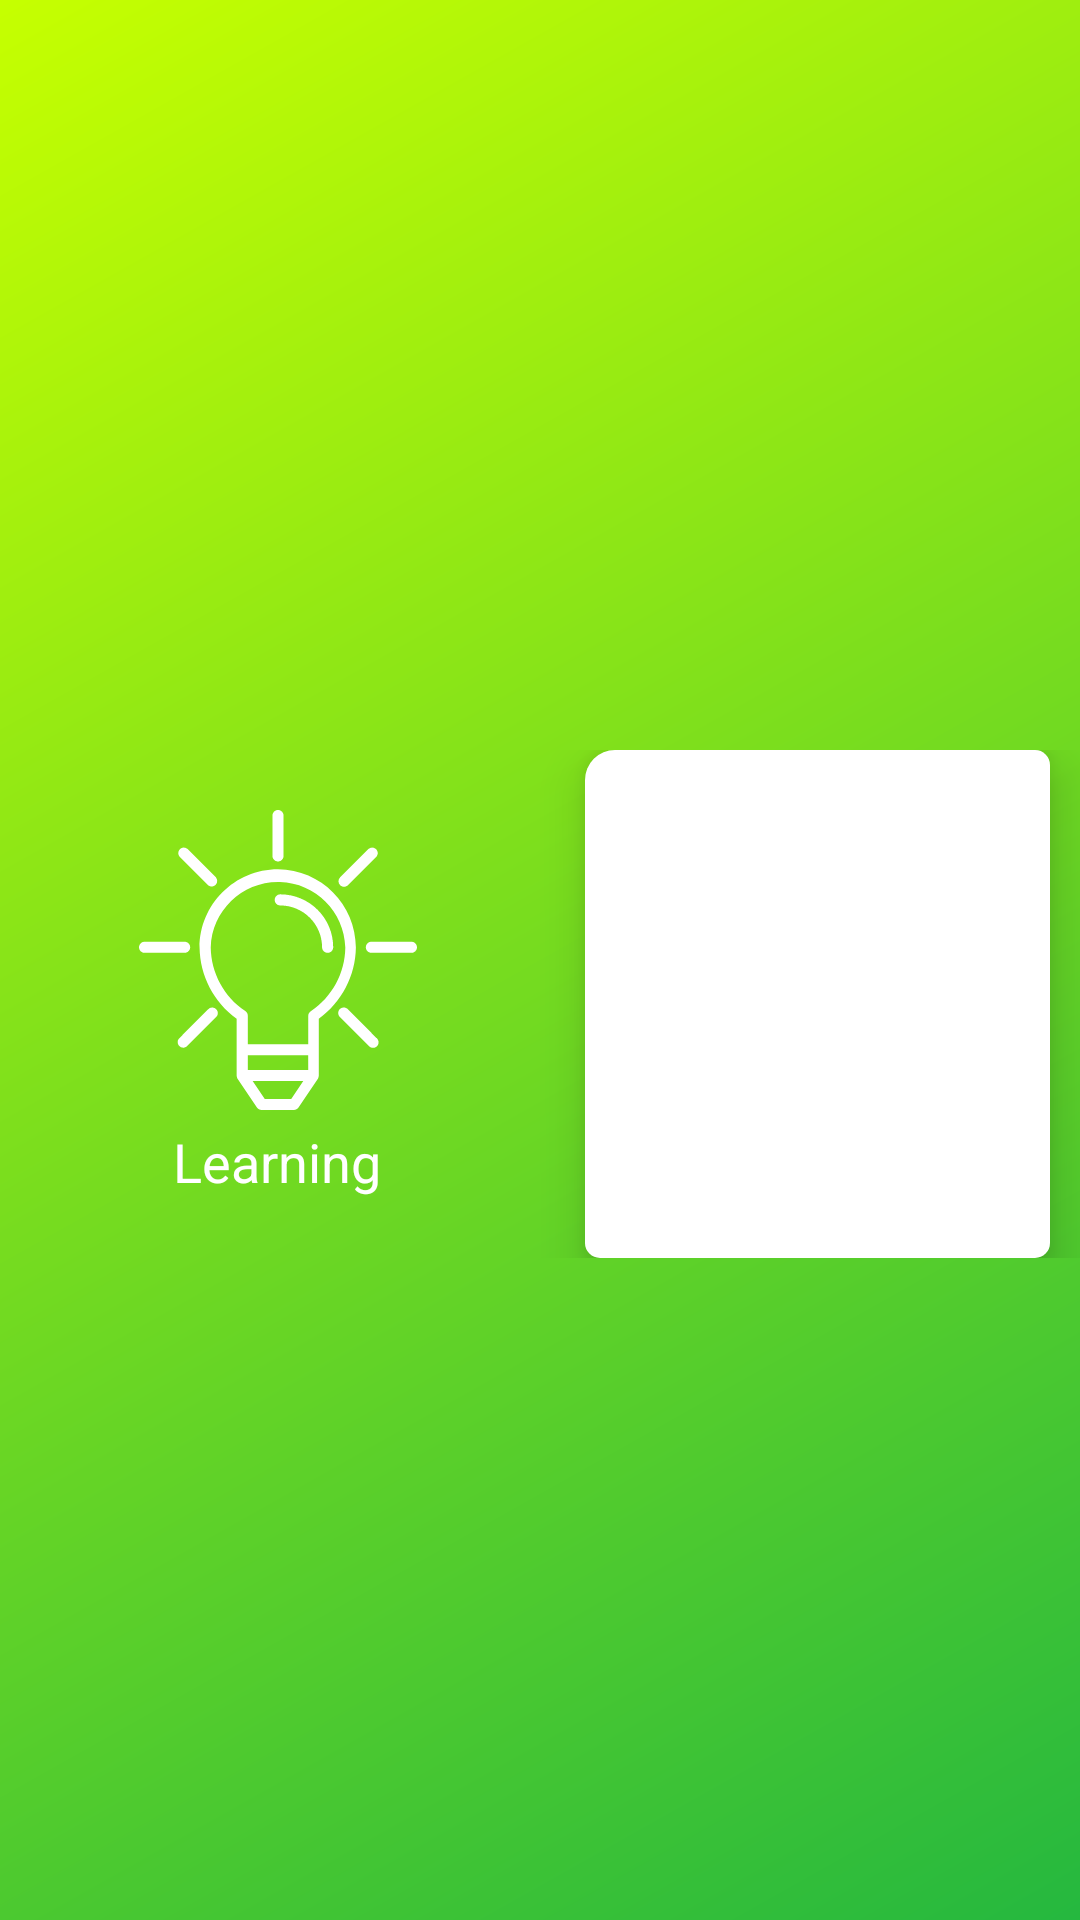

Named icons in this screenshot (1080px x 1920px) and their bounding boxes, {"x1": x1, "y1": y1, "x2": x2, "y2": y2}:
idea: {"x1": 139, "y1": 810, "x2": 417, "y2": 1110}
